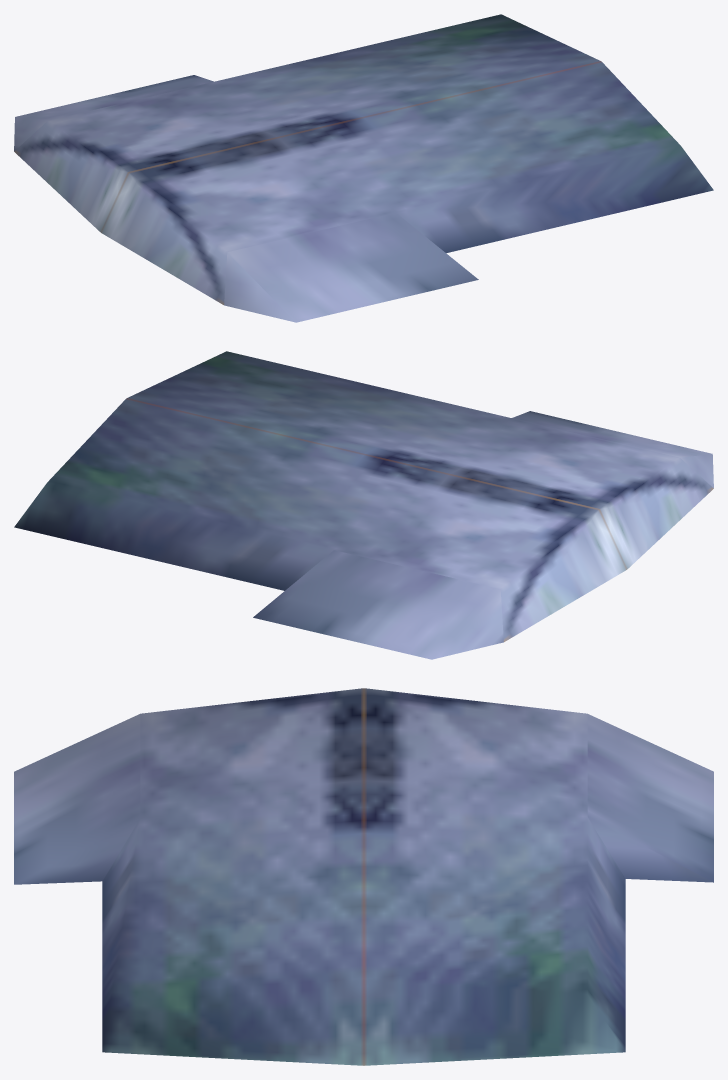
Rendered from foldershirtgreen.obj.
3 views of the same model, one above another, from view 1: azimuth 30°, elevation 25°; view 2: azimuth 150°, elevation 25°; view 3: azimuth 270°, elevation 25° (orthographic). The views are drawn at different scales.
Parts seen in each view (by area): view 1: foldershirtgreen; view 2: foldershirtgreen; view 3: foldershirtgreen.
Part boxes in pixels (<box>): foldershirtgreen: <box>14,14,713,322</box>; foldershirtgreen: <box>14,351,713,659</box>; foldershirtgreen: <box>14,688,713,1065</box>.
Size of the model in its own units: 0.5249 by 0.0552 by 0.4824.
Materials: 1 (1 with a texture image).
